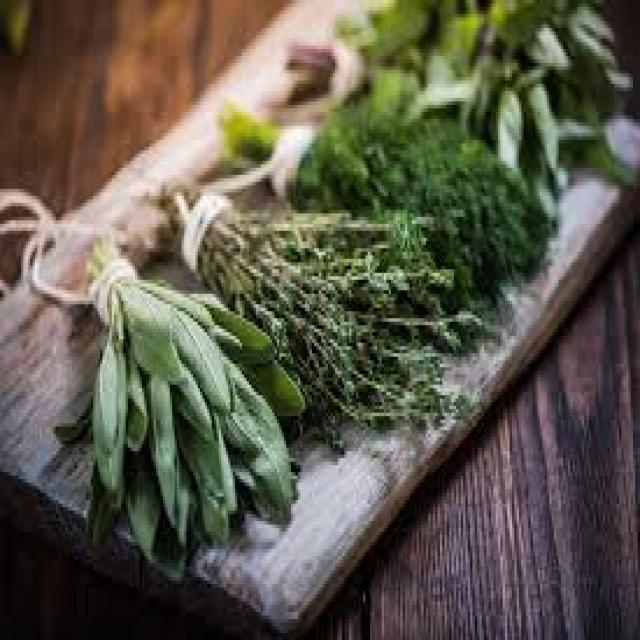organic waste: (51, 228, 305, 580), (160, 175, 482, 434), (216, 91, 550, 308), (332, 0, 638, 182), (282, 32, 598, 200), (0, 0, 28, 56)
